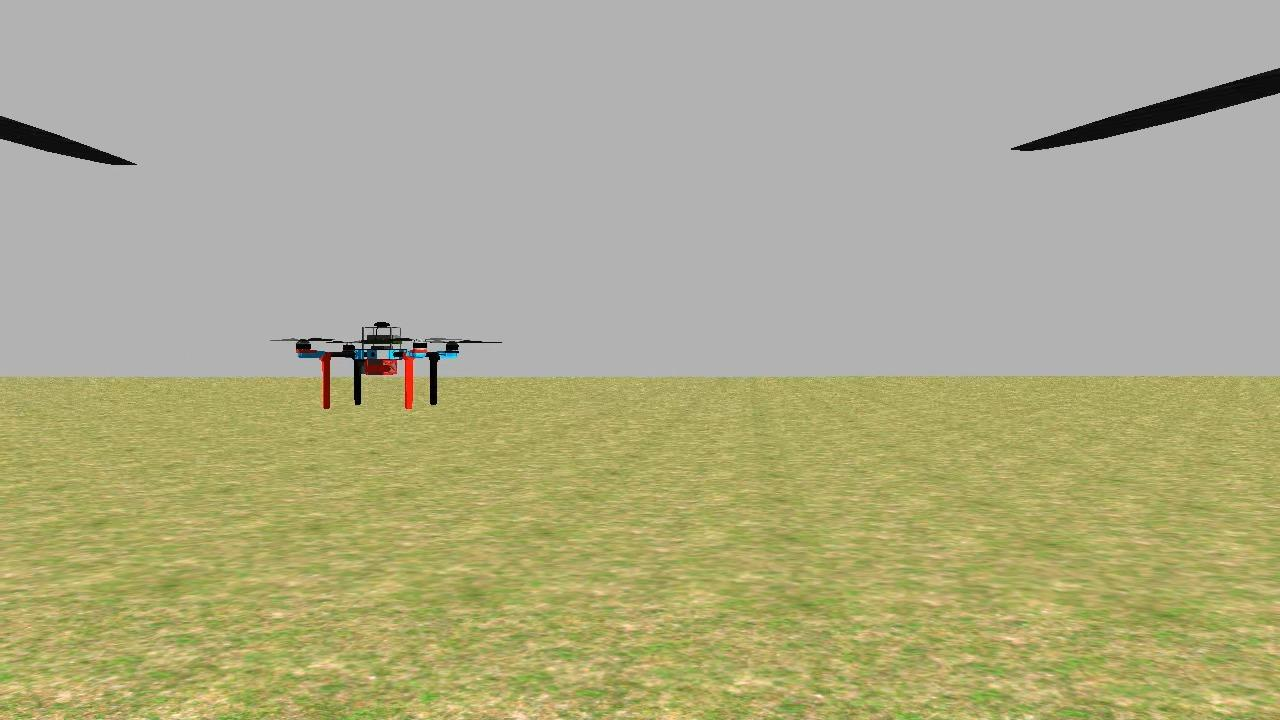UAV: (283, 306, 463, 421)
